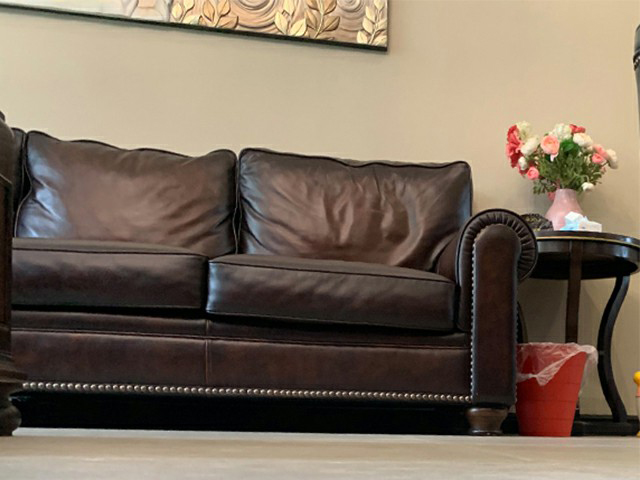sofa: (1, 112, 538, 437)
trashcan: (516, 341, 589, 437)
